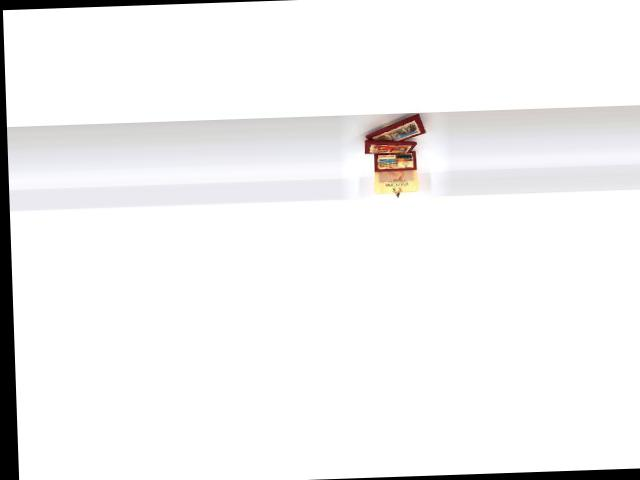chocolate: (361, 108, 438, 146)
